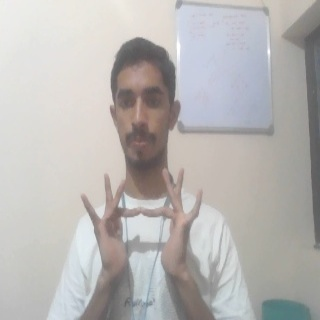Face: (106, 36, 181, 166)
Internet: (78, 168, 214, 288)
